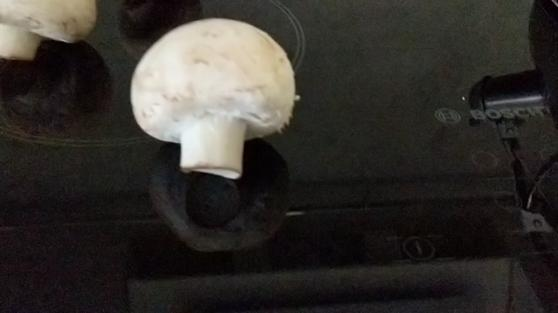champignon: (132, 15, 300, 180), (1, 1, 103, 63)
